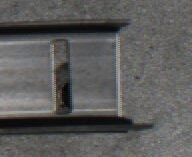40ngpress: (19, 20, 134, 128)
